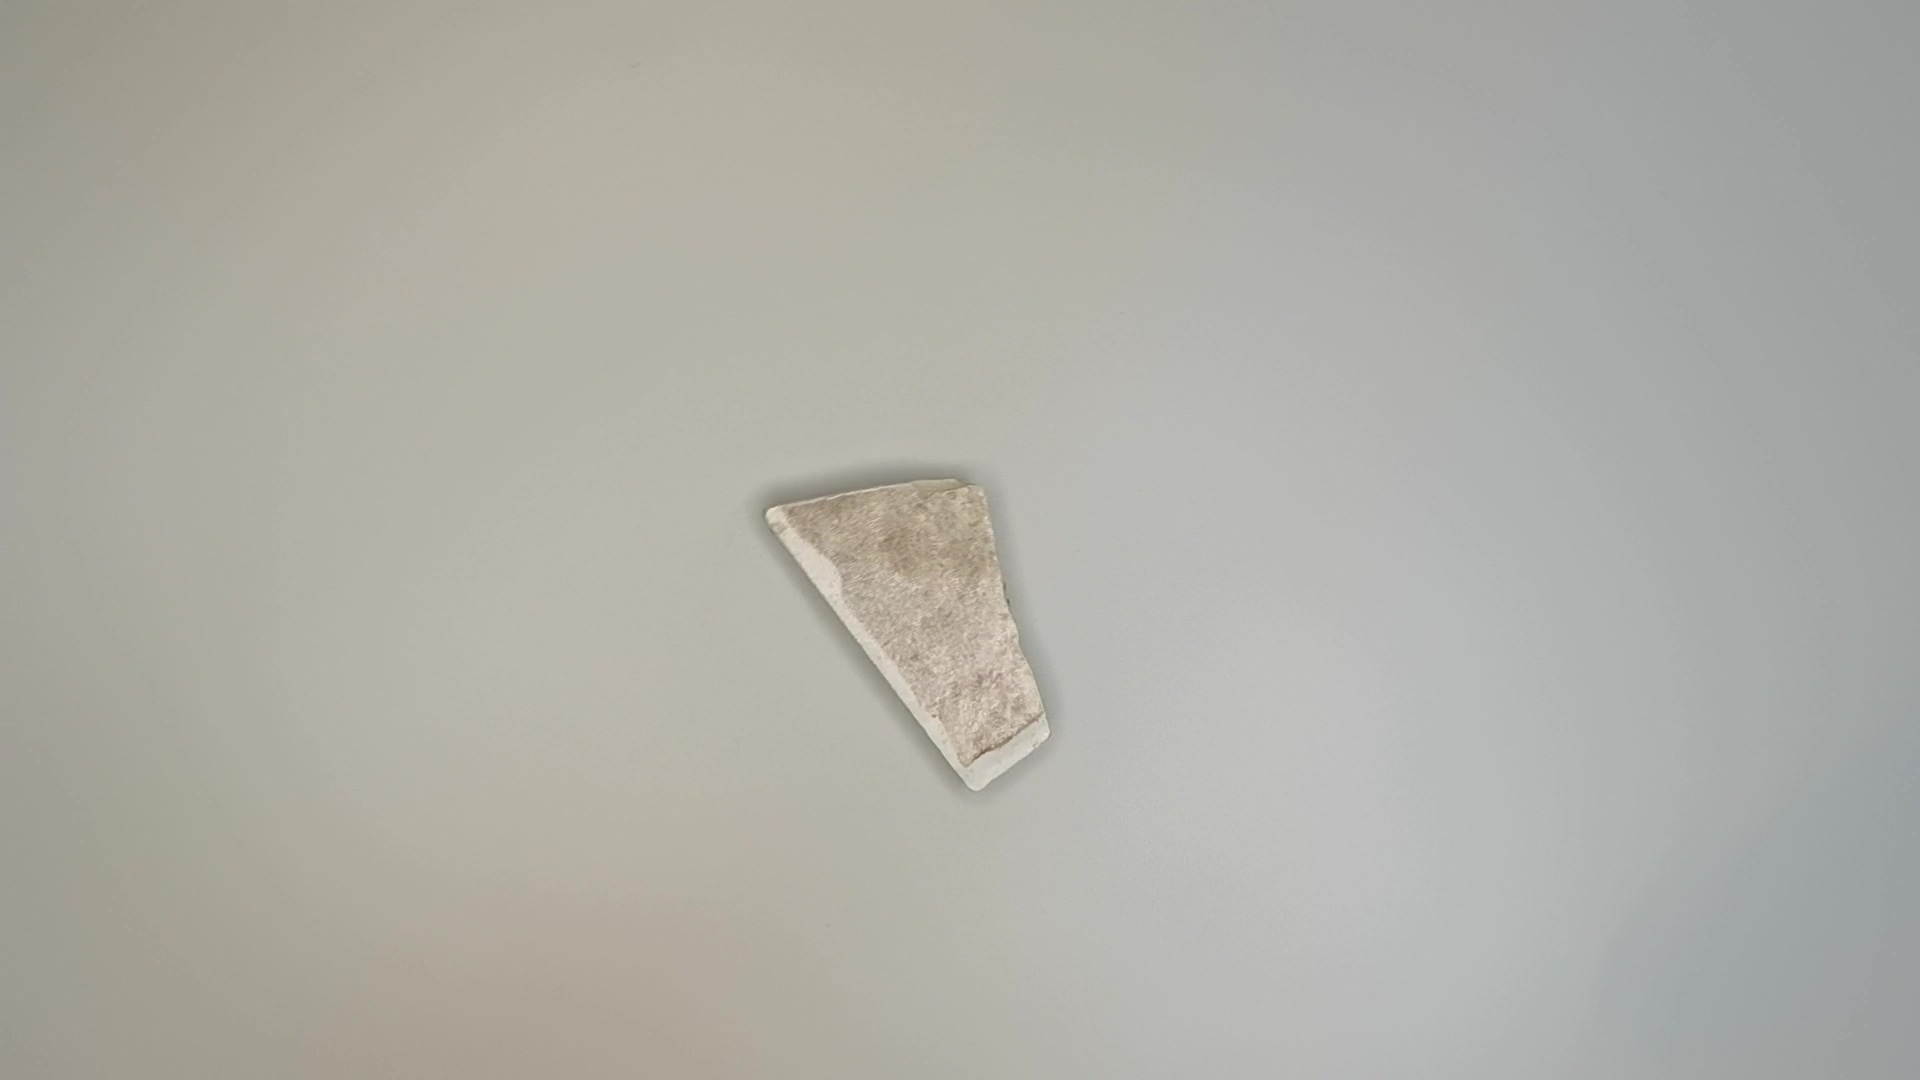ceramic: (756, 464, 1059, 795)
